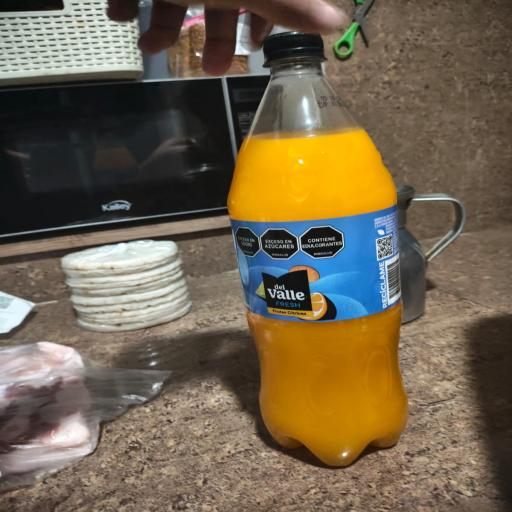Jugo del valle: (218, 18, 420, 470)
